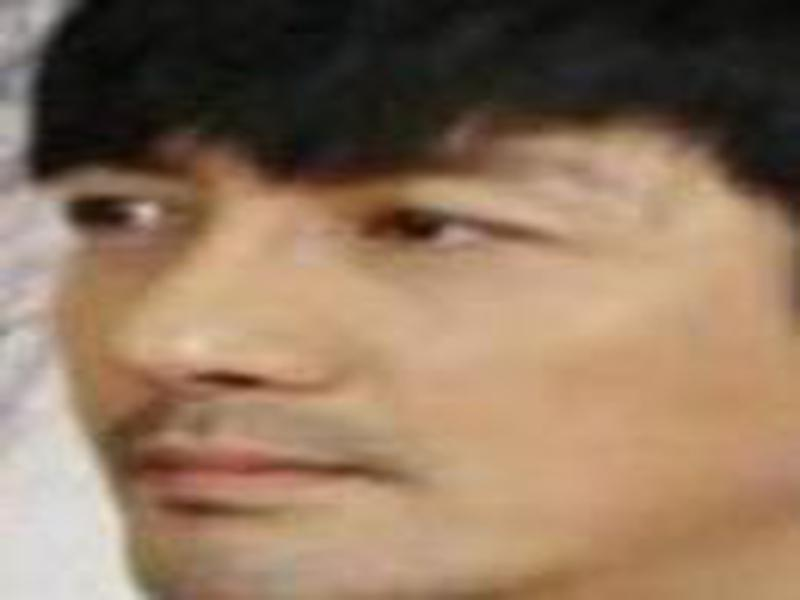without_mask: (44, 102, 795, 600)
